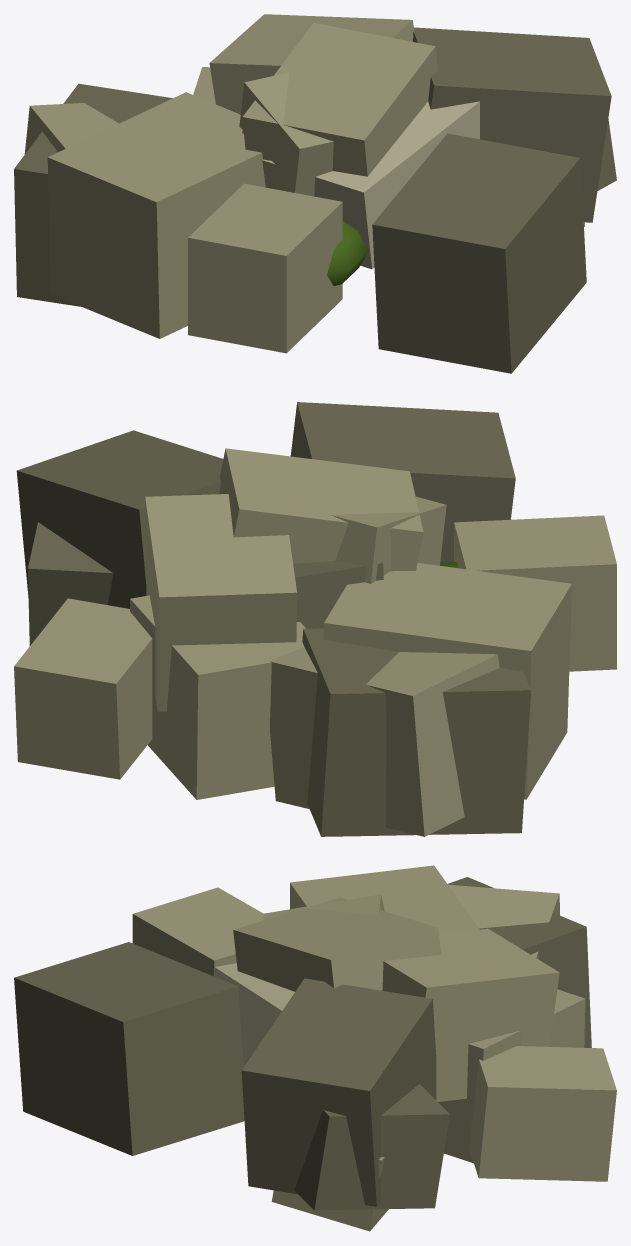
The model's file is jt_rubble_pile.glb.
3 renders of one model, top to bottom at view 1: azimuth 30°, elevation 25°; view 2: azimuth 150°, elevation 25°; view 3: azimuth 270°, elevation 25°, orthographic. The views are drawn at different scales.
Parts seen in each view (by area): view 1: jt_rubble_pile; view 2: jt_rubble_pile; view 3: jt_rubble_pile.
Boxes of the visible parts, x1,y1,x2,y2 form: jt_rubble_pile: (14, 14, 616, 373); jt_rubble_pile: (14, 402, 616, 836); jt_rubble_pile: (14, 865, 616, 1231).
Bounding box in the file's own units: 2.34 × 0.93 × 2.36.
